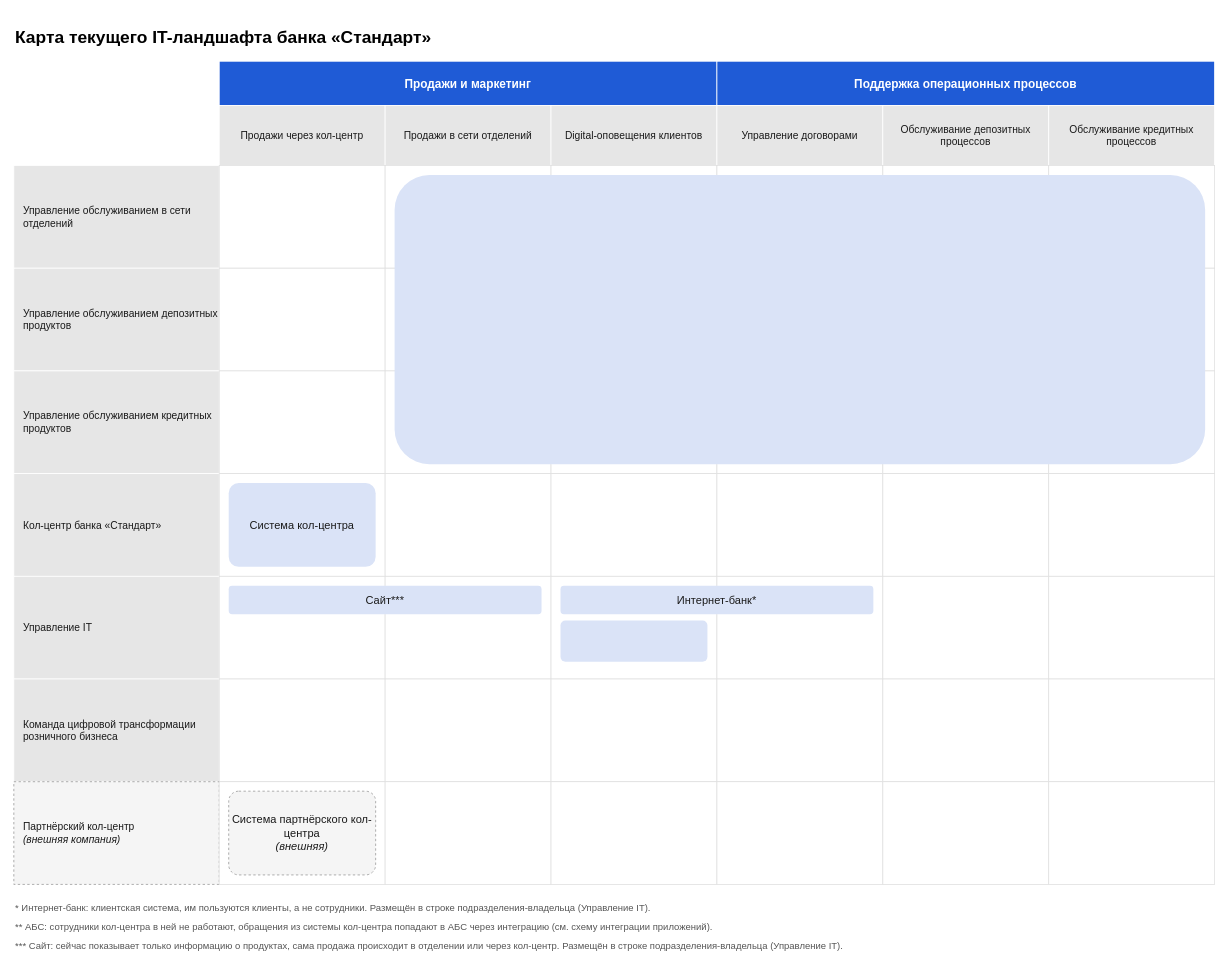
The diagram is 1228 pixels wide and 967 high, and some of its shapes have lost their labels. The centre of each missing label's shape, as x and y in pixels:
АБС**: the point at 799,319
СМС-шлюз телеком-оператора: the point at 633,640
